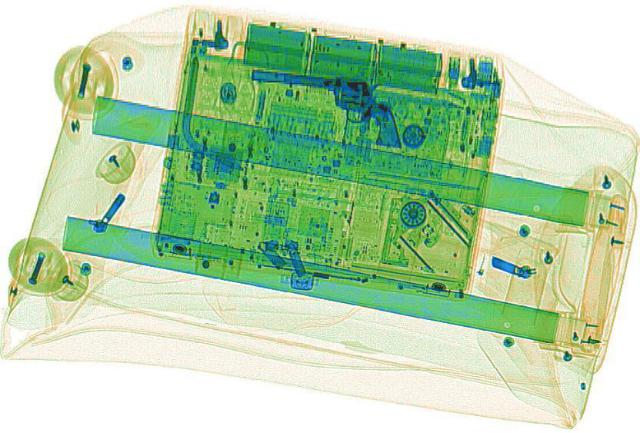Gun: (234, 66, 420, 147)
